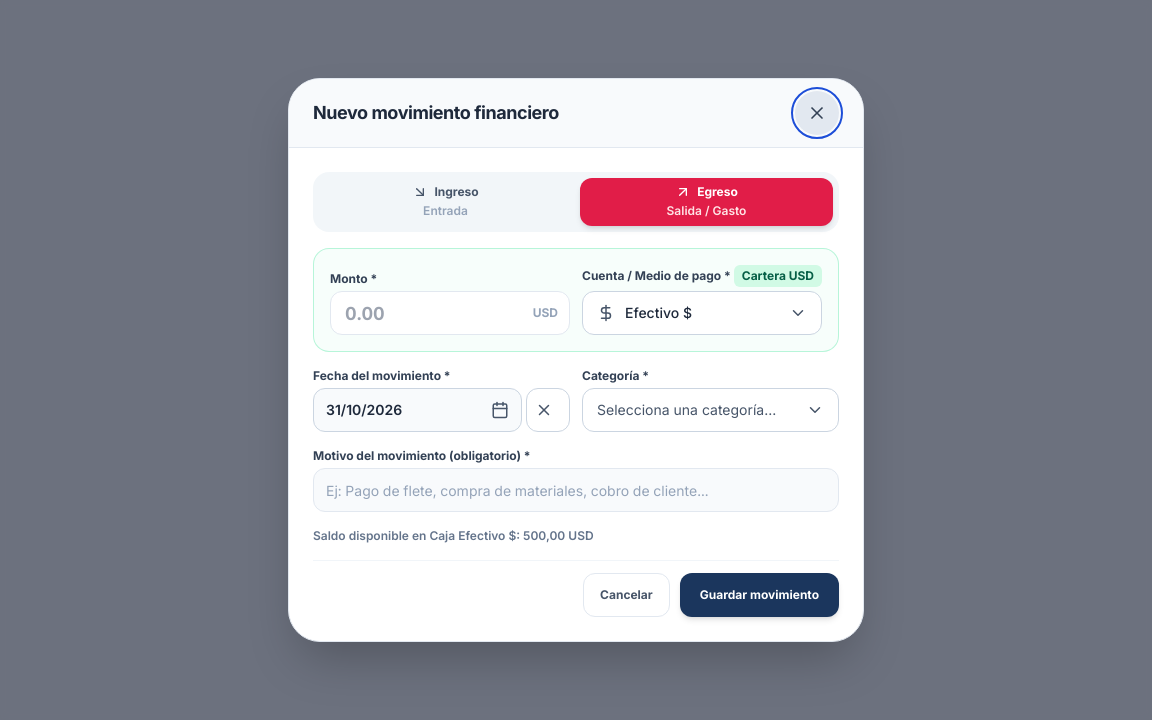
Test: MovimientoForm › exige un motivo (concepto) de al menos 3 caracteres en todo movimiento
Click the button "Egreso Salida / Gasto": (706,202) [580,178,833,226]
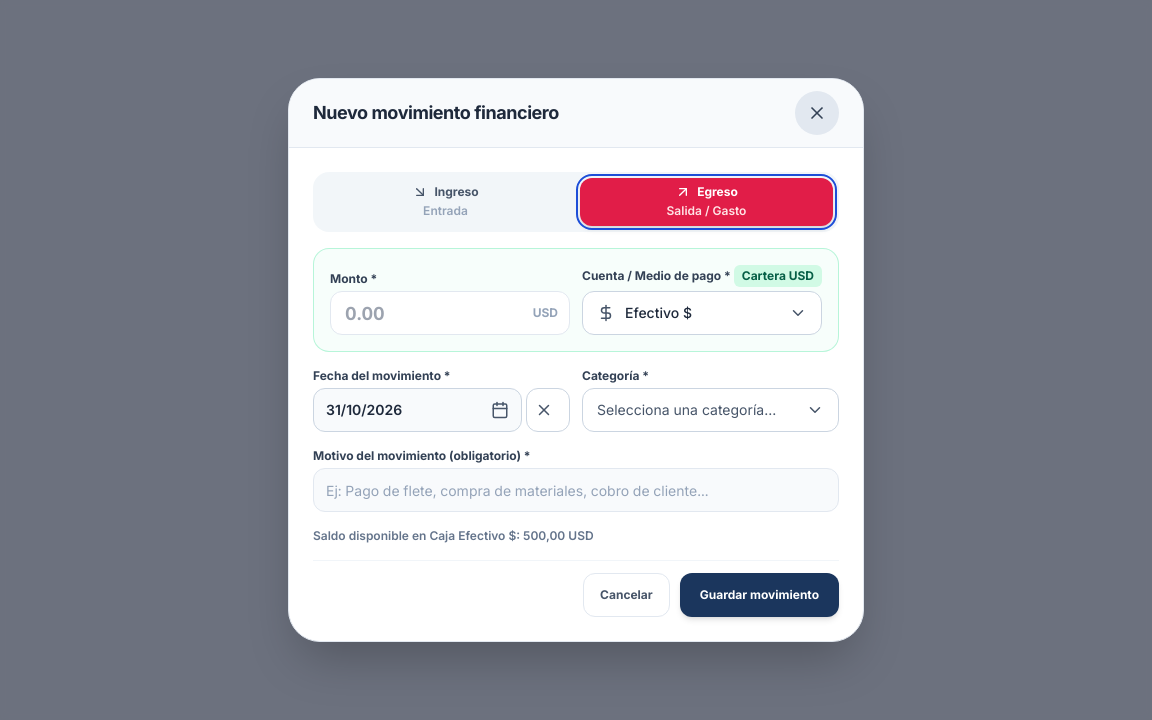
Click the dropdown "Selecciona una categoría...": (710,410) [582,388,839,432]
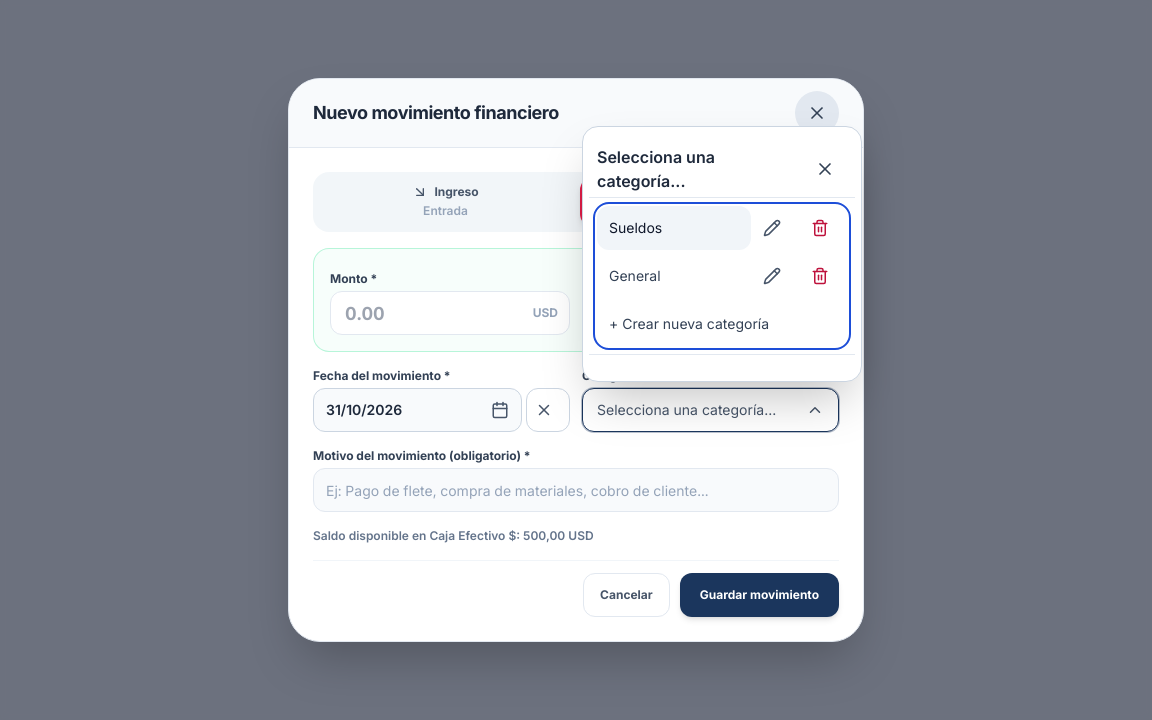
Click the option "Sueldos": (674,228) [597,206,751,250]
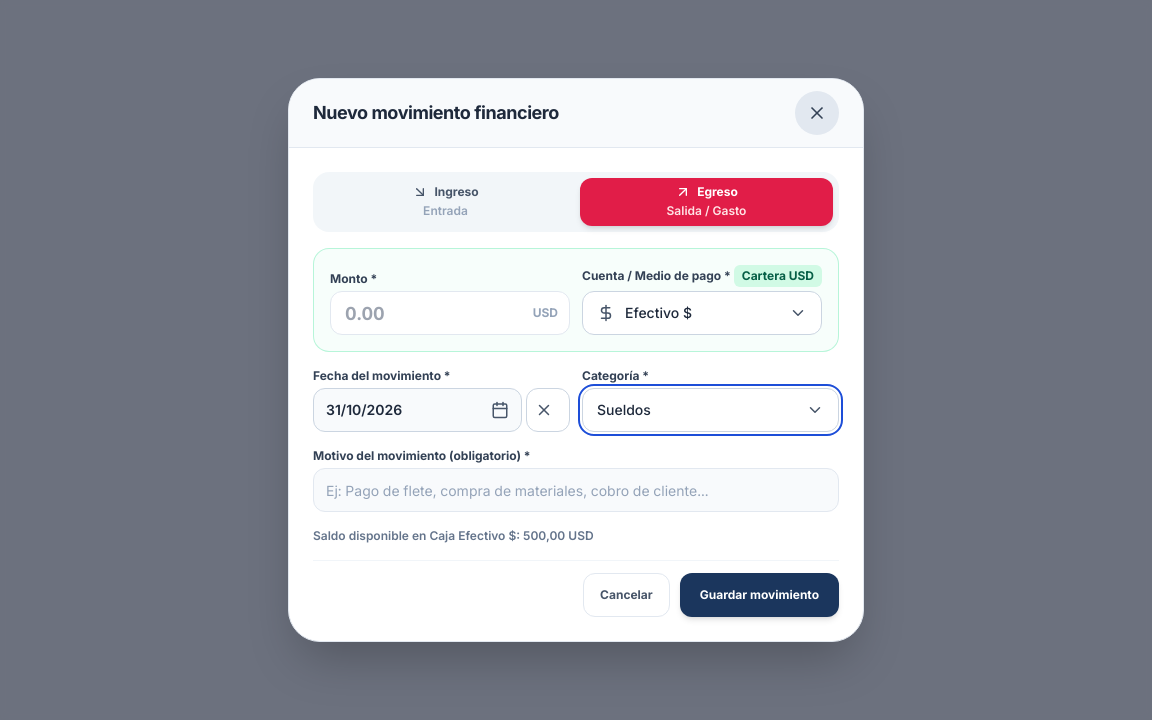
In the field with placeholder "Pago de flete": (576,490) [313,468,839,512], type "ab"
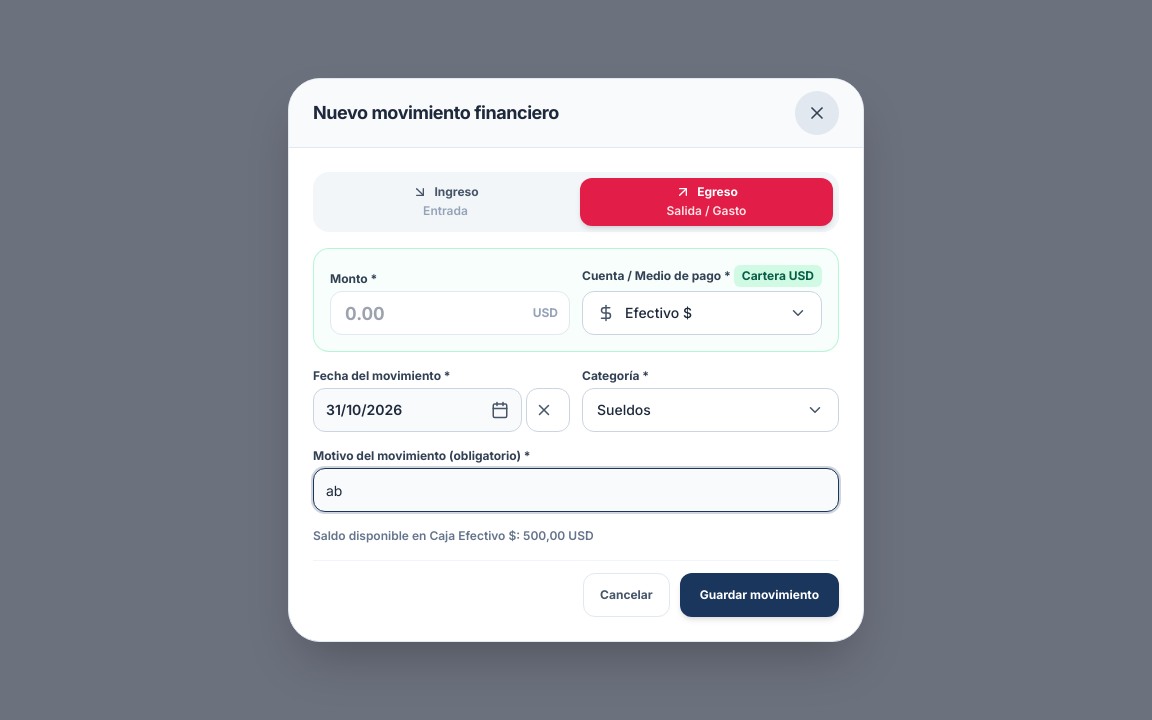
Submit the form, box [313,172,839,617]
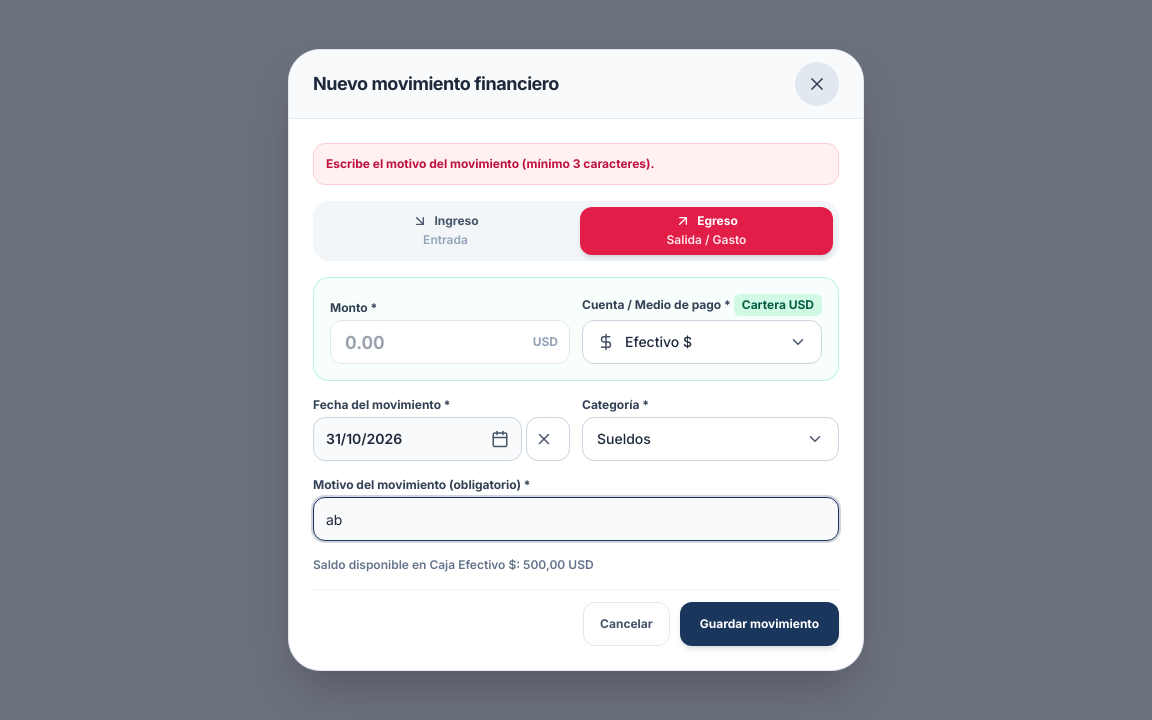
Check: the message shows "mínimo 3 caracteres", box [326,156,655,171]
